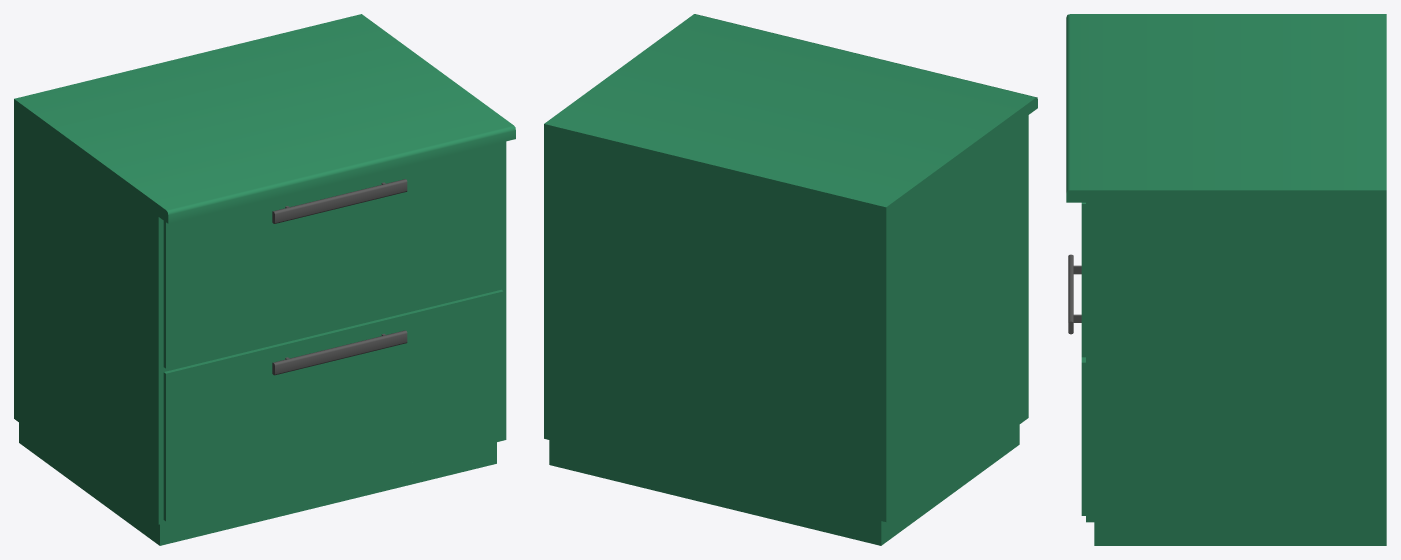
The model's file is mcp_kitchen_cupboard_table_02.FBX.
3 renders of one model, left to right at view 1: azimuth 30°, elevation 25°; view 2: azimuth 150°, elevation 25°; view 3: azimuth 270°, elevation 25°, orthographic. The views are drawn at different scales.
Visible parts, largest first — view 1: mcp_kitchen_cupboard_table_02, mcp_kitchen_cupboard_table_02_knobs; view 2: mcp_kitchen_cupboard_table_02; view 3: mcp_kitchen_cupboard_table_02, mcp_kitchen_cupboard_table_02_knobs.
Boxes of the visible parts, <box> form: mcp_kitchen_cupboard_table_02: <box>14,14,515,545</box>; mcp_kitchen_cupboard_table_02_knobs: <box>272,179,407,375</box>; mcp_kitchen_cupboard_table_02: <box>544,14,1037,545</box>; mcp_kitchen_cupboard_table_02: <box>1066,14,1386,545</box>; mcp_kitchen_cupboard_table_02_knobs: <box>1068,254,1081,334</box>.
Bounding box in the file's own units: 112 × 106 × 86.
